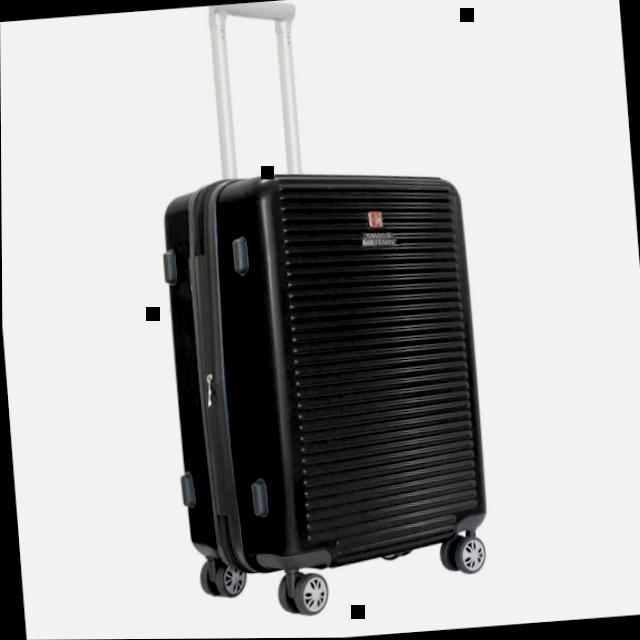luggage: (139, 147, 505, 596)
